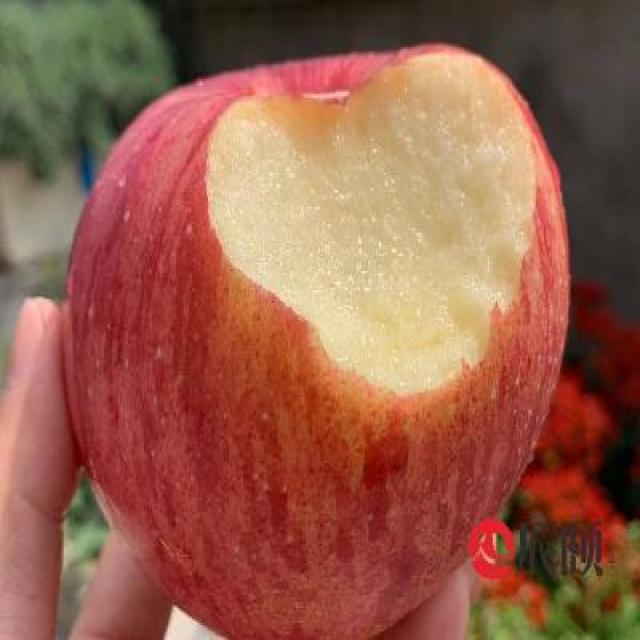Rotten: (56, 28, 584, 640)
